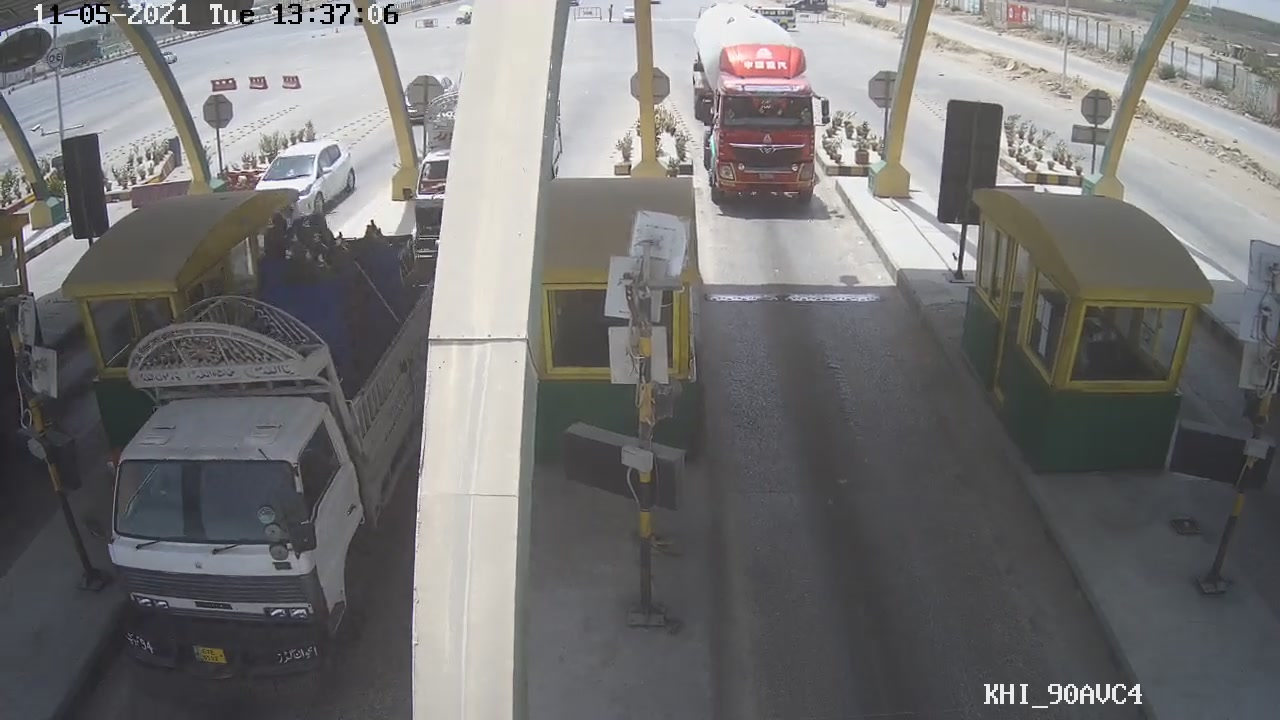F6: (702, 19, 832, 215)
